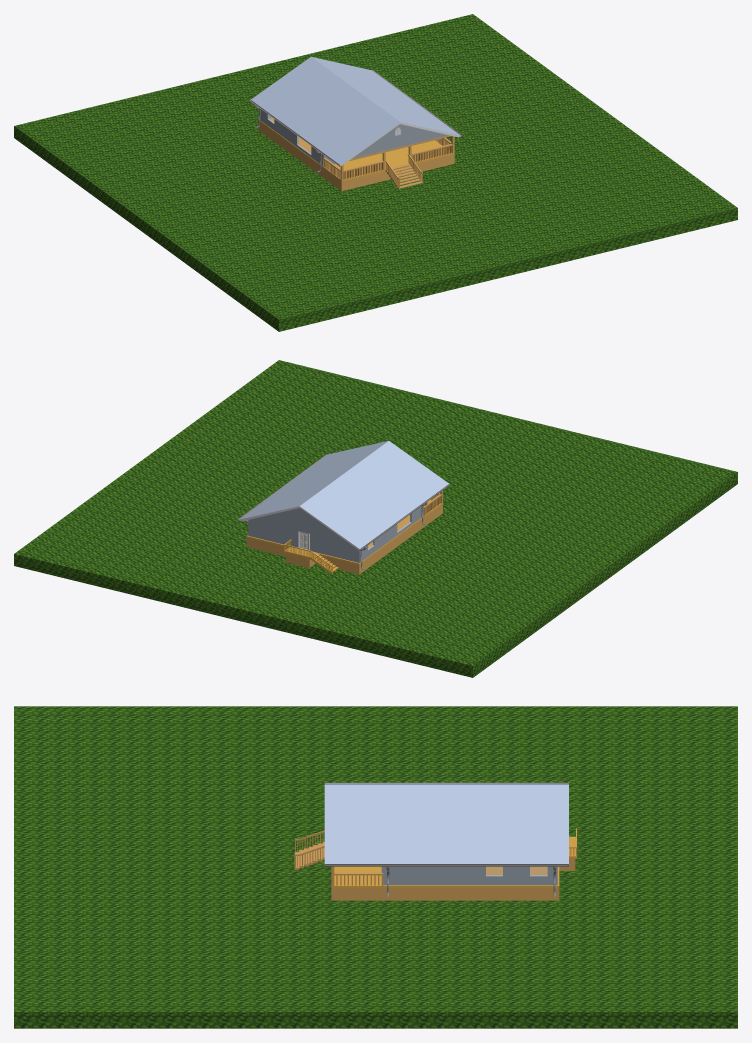
Rendered from house_model.gltf.
The picture shows the model from 3 angles, top to bottom: view 1: azimuth 30°, elevation 25°; view 2: azimuth 150°, elevation 25°; view 3: azimuth 270°, elevation 25°; orthographic projection. The views are drawn at different scales.
Visible parts, largest first — view 1: 立方体, shingles, porch rails, foundation.001, porch, roof gables, siding; view 2: 立方体, shingles, siding, foundation.001, roof gables, foundation.002; view 3: 立方体, shingles, siding, foundation.001, gutters, foundation.002, porch rails, porch.
Boxes of the visible parts, x1,y1,x2,y2 form: 立方体: [14, 14, 737, 331]; shingles: [251, 56, 460, 164]; porch rails: [323, 135, 454, 187]; foundation.001: [258, 121, 454, 190]; porch: [324, 140, 451, 179]; roof gables: [352, 124, 448, 158]; siding: [260, 109, 335, 165]; 立方体: [14, 360, 737, 677]; shingles: [239, 441, 448, 548]; siding: [248, 505, 423, 562]; foundation.001: [246, 504, 442, 574]; roof gables: [251, 508, 348, 543]; foundation.002: [246, 503, 442, 574]; 立方体: [14, 706, 737, 1028]; shingles: [324, 783, 568, 863]; siding: [381, 866, 557, 885]; foundation.001: [331, 859, 575, 900]; gutters: [324, 782, 568, 866]; foundation.002: [331, 828, 577, 888]; porch rails: [295, 830, 383, 885]; porch: [334, 866, 381, 885].
Size of the model in its own units: 80 by 11.51 by 80.
Materials: 9 (1 with a texture image).
